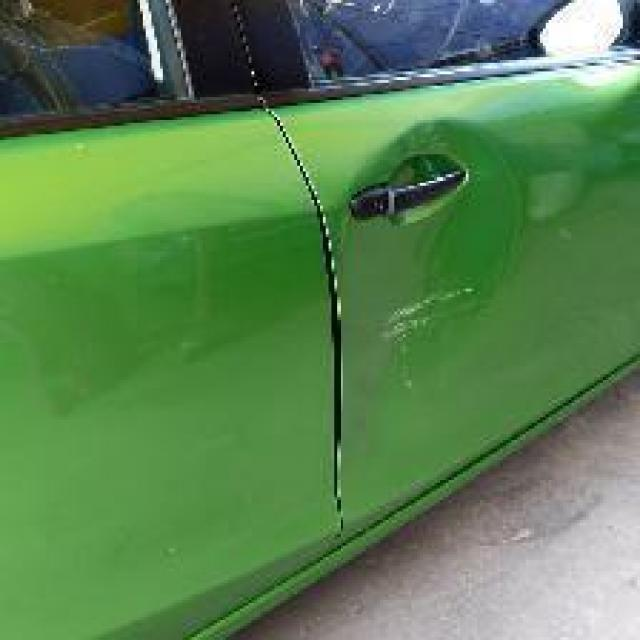damaged: (326, 120, 523, 392)
